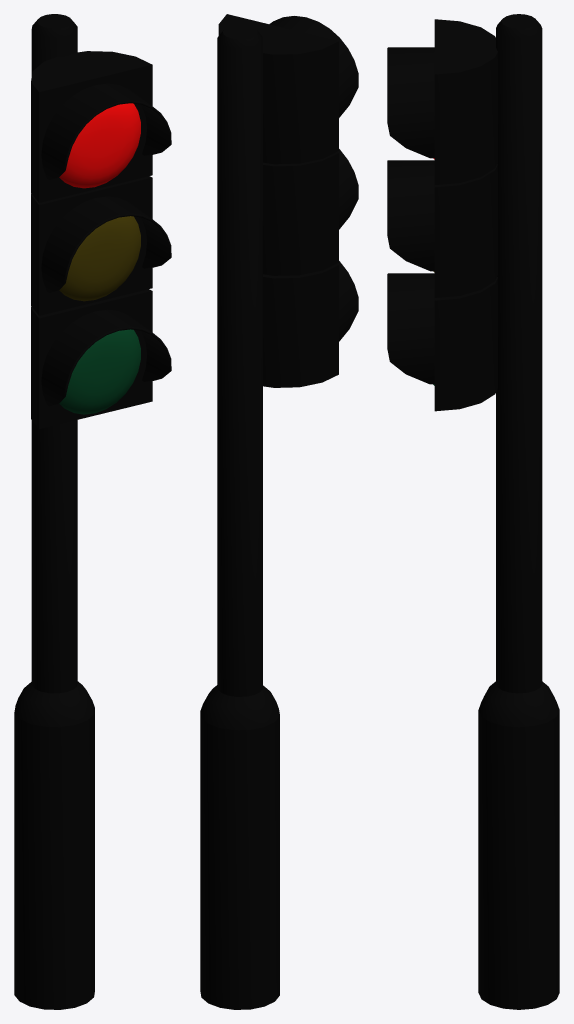
The model's file is traffic-light-red.glb.
3 renders of one model, left to right at view 1: azimuth 30°, elevation 25°; view 2: azimuth 150°, elevation 25°; view 3: azimuth 270°, elevation 25°, orthographic.
Visible parts, largest first — view 1: ampel, ampel.2, ampel.1, ampel.3; view 2: ampel; view 3: ampel.
Part boxes in pixels (box(x1,y1,x2,y2)): ampel: box(14, 14, 171, 1009); ampel.2: box(59, 216, 140, 301); ampel.1: box(59, 103, 140, 188); ampel.3: box(59, 329, 140, 414); ampel: box(200, 14, 358, 1009); ampel: box(387, 14, 559, 1009).
Size of the model in its own units: 0.7322 by 5.99 by 0.9644.
